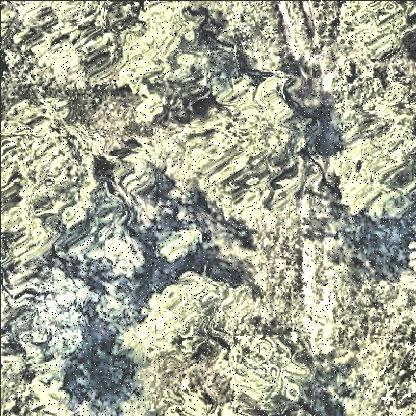tree-top: (2, 98, 101, 262), (186, 87, 309, 209), (329, 57, 416, 220), (312, 292, 416, 404), (120, 5, 210, 112), (8, 260, 103, 352), (214, 330, 310, 416), (127, 279, 219, 359), (121, 355, 226, 416), (206, 1, 286, 75), (332, 1, 416, 65), (49, 3, 111, 81)
